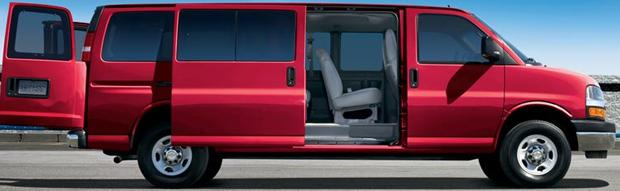headlight: (579, 81, 609, 124)
side_glass: (175, 7, 301, 62)
